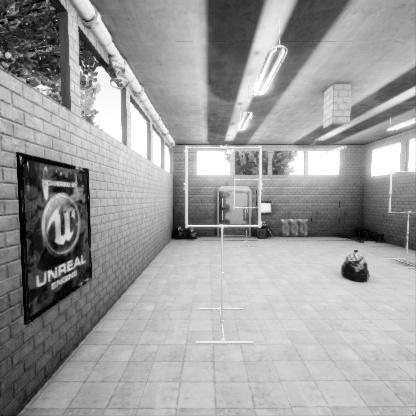gate: (186, 192, 266, 271), (393, 204, 416, 246), (233, 208, 263, 238)
